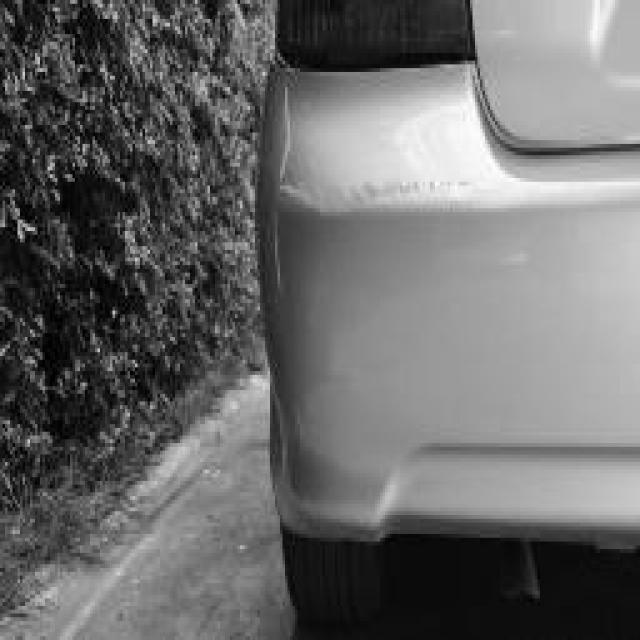Bumper: (265, 68, 552, 329)
